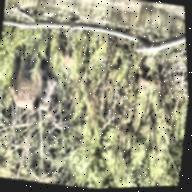boar: (2, 30, 69, 122)
